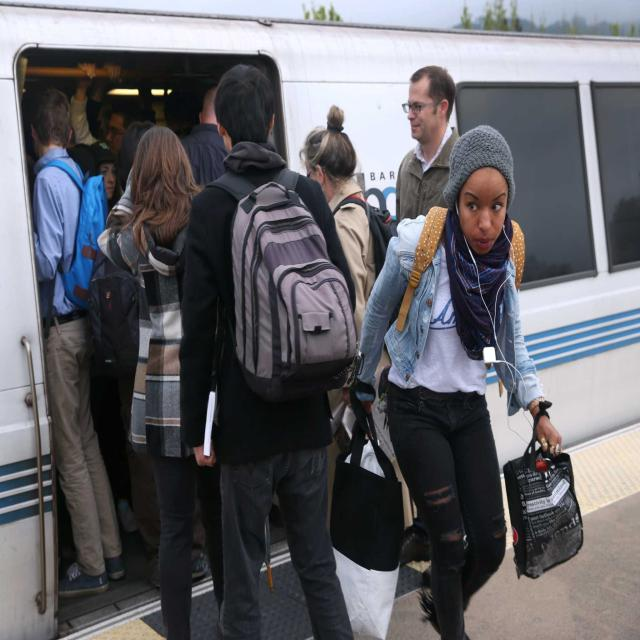body: (326, 124, 587, 640), (178, 62, 370, 640), (96, 126, 227, 640), (296, 104, 412, 575), (22, 85, 128, 598), (5, 45, 281, 200), (394, 65, 462, 567)
